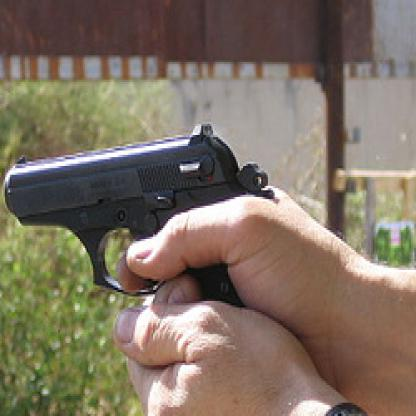gun: (0, 108, 286, 356)
